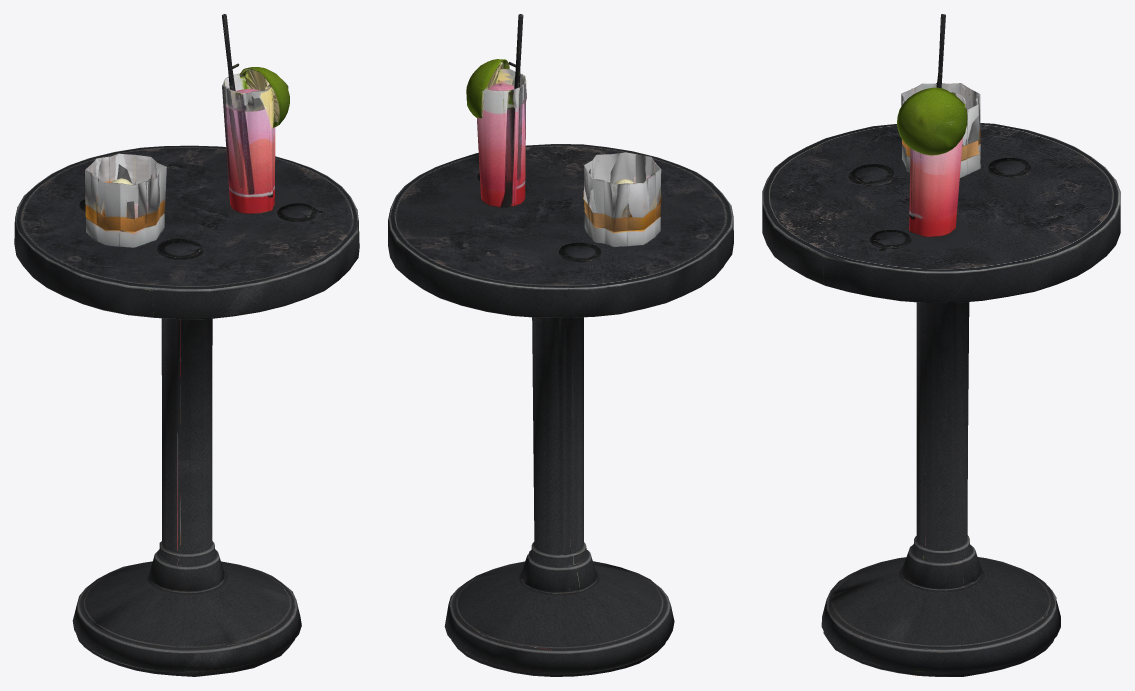
Rendered from table.glb.
3 views of the same model, side by side, from view 1: azimuth 30°, elevation 25°; view 2: azimuth 150°, elevation 25°; view 3: azimuth 270°, elevation 25° (orthographic). The views are drawn at different scales.
Bounding box in the file's own units: 0.4888 × 0.9521 × 0.4888.
Materials: 1 (1 with a texture image).
